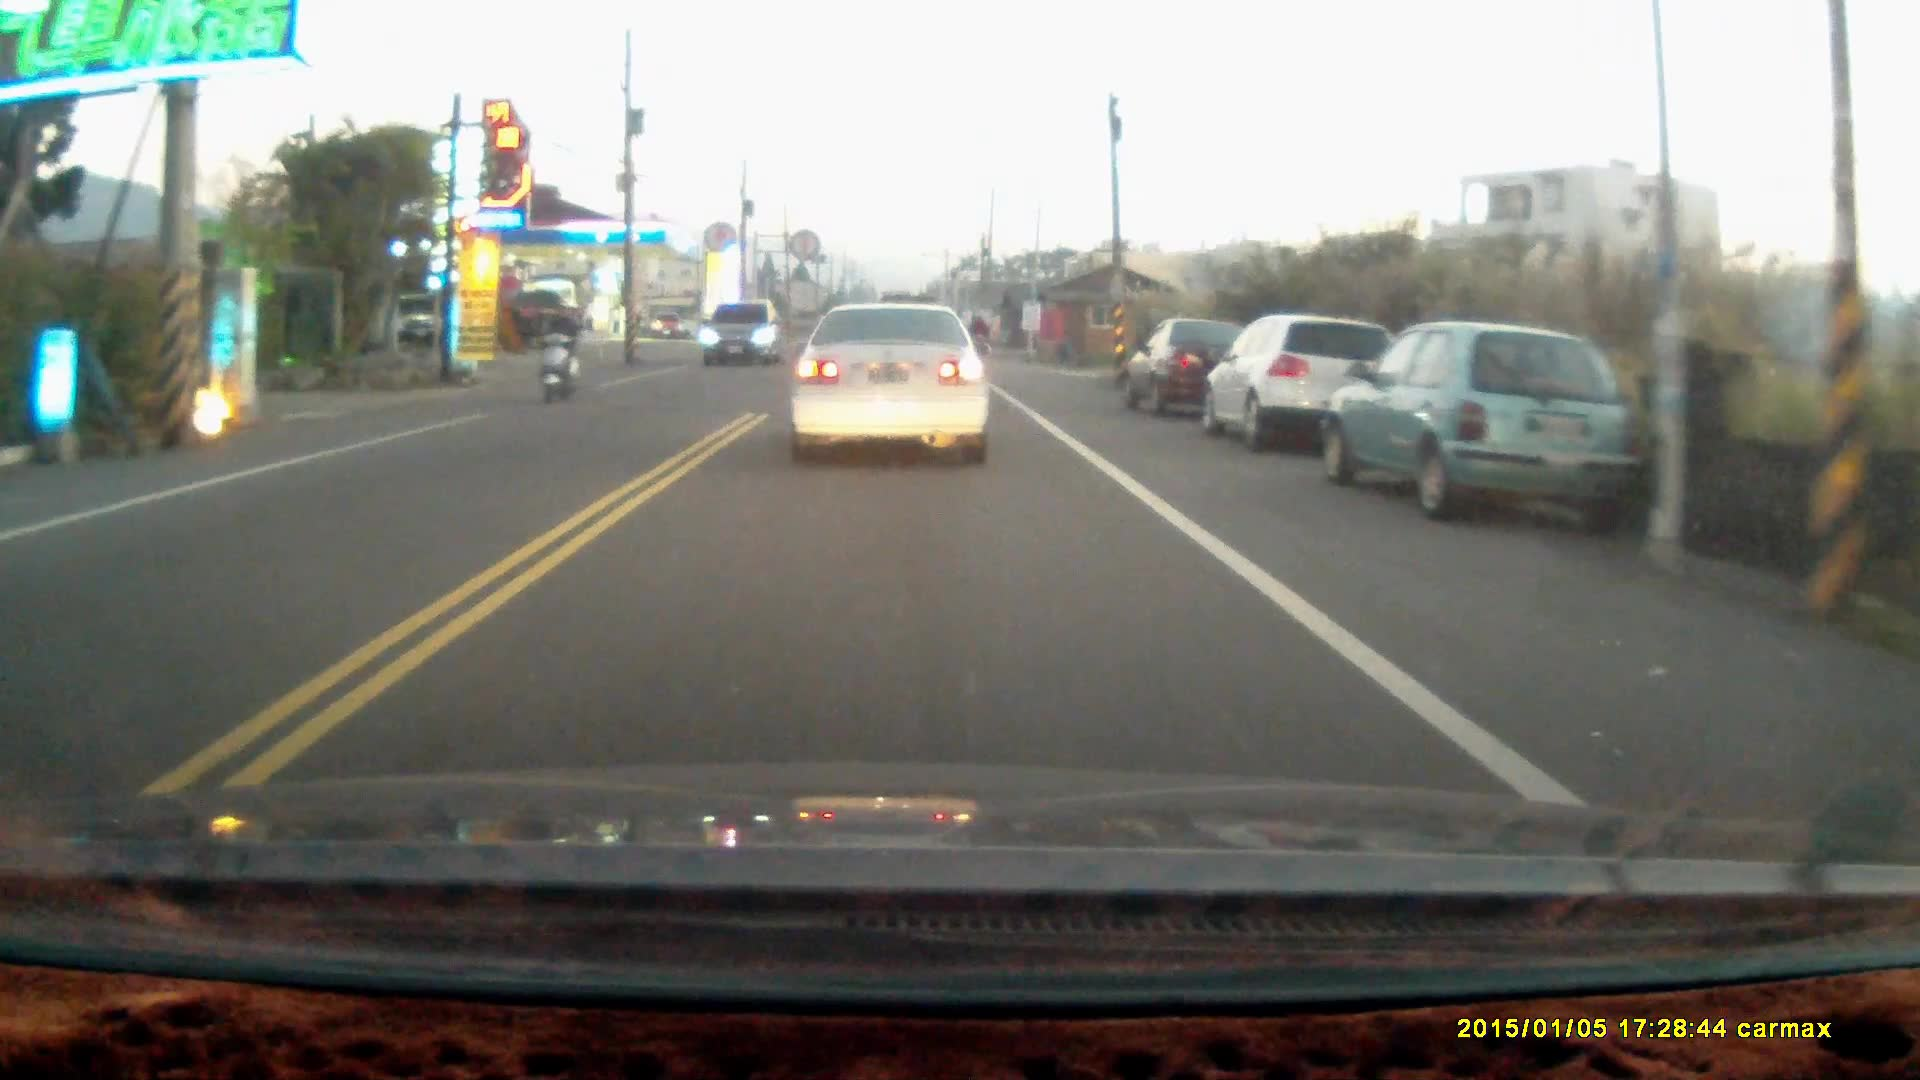rider: (534, 301, 580, 402)
vehicle: (1318, 321, 1651, 519), (789, 296, 995, 467), (1207, 313, 1395, 455), (1129, 313, 1251, 414), (702, 305, 786, 366)
